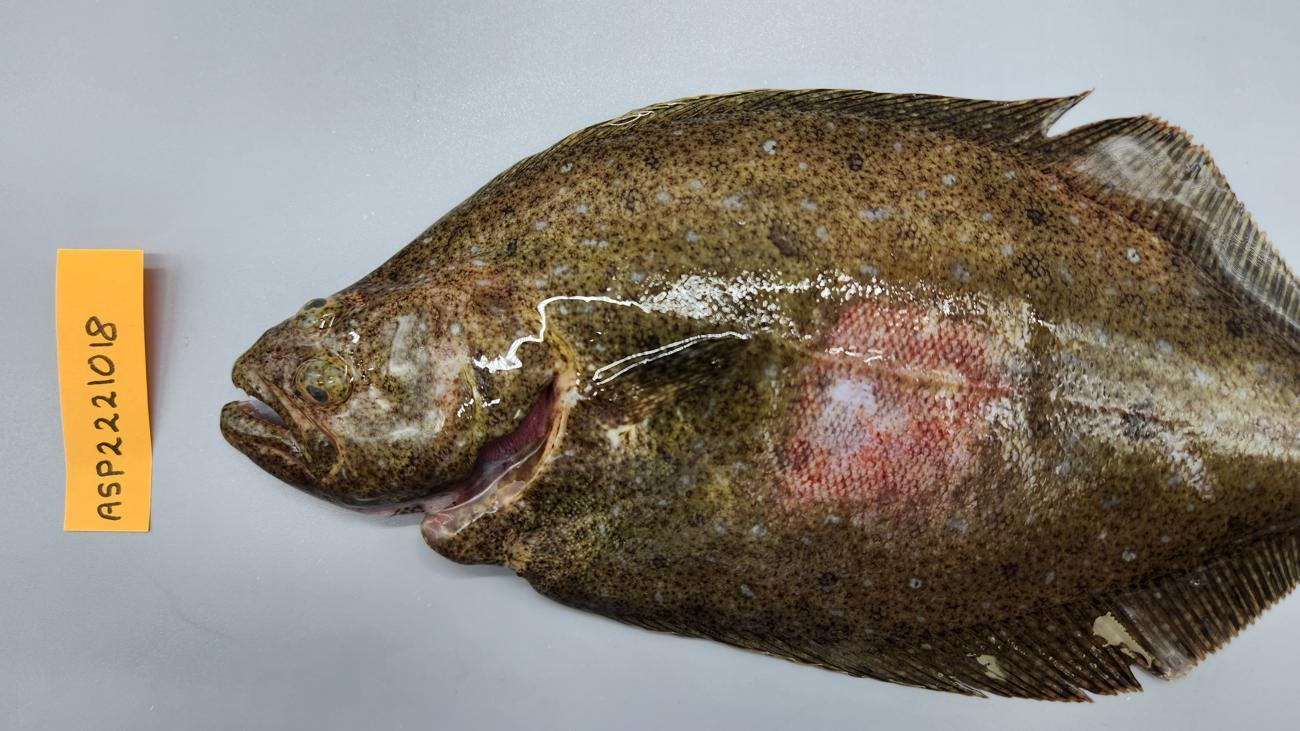SPDYH: (842, 469, 1244, 647), (750, 287, 1017, 536)
